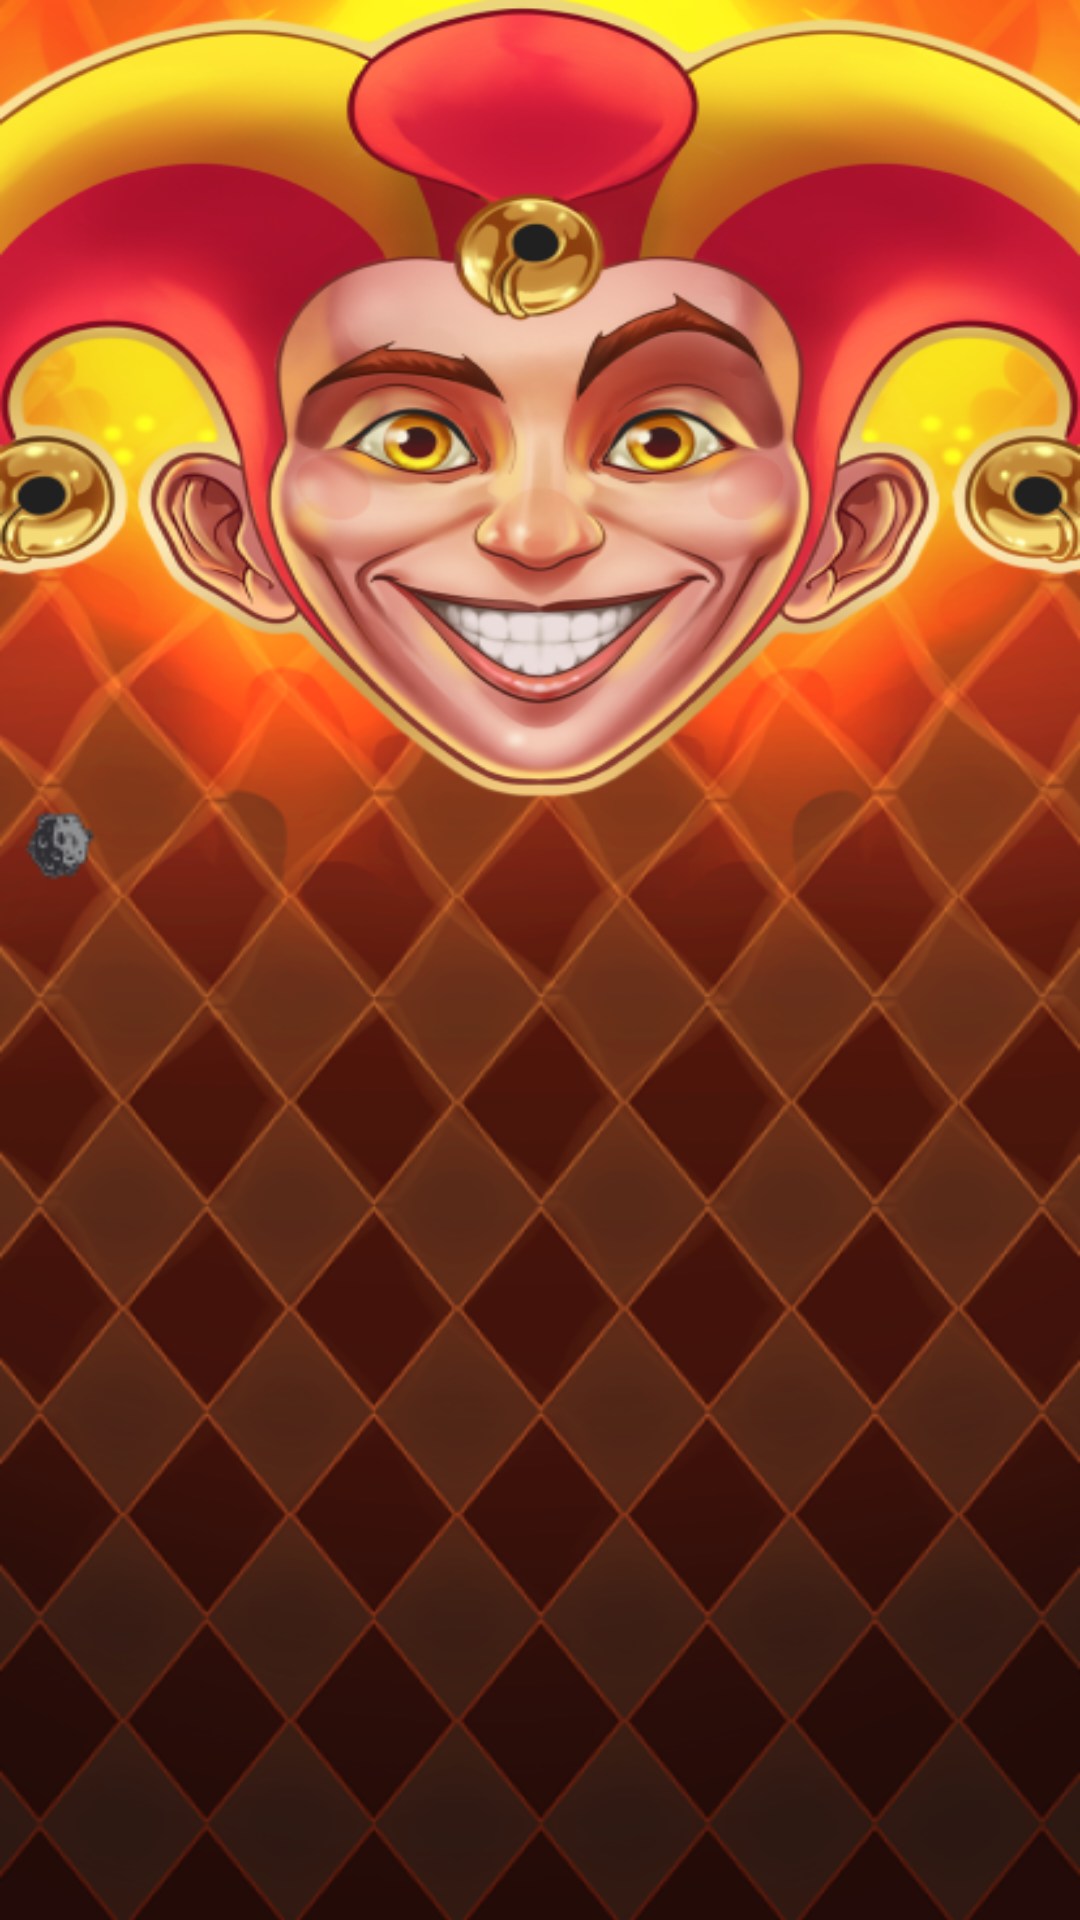

Icons on this 1080 x 1920 Android screen, each with its box as bbox=[x1, y1, x2, y2]:
asteroid posive: bbox=[15, 798, 105, 887]
